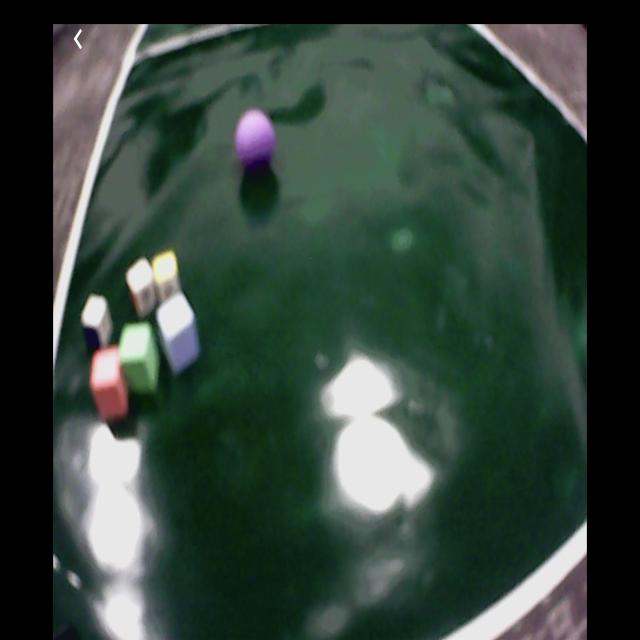ball: (236, 110, 277, 173)
